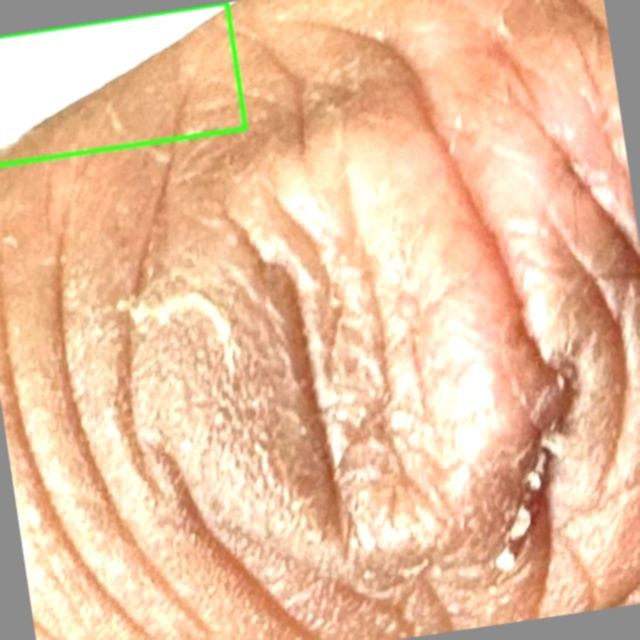Contact Dermatitis: (0, 3, 245, 164)
